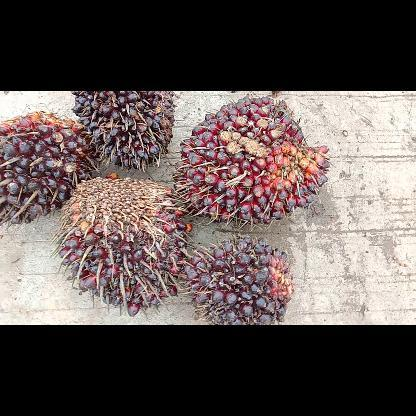TBS mentah: (170, 96, 328, 226), (51, 178, 192, 316), (0, 110, 96, 224), (176, 236, 292, 324), (70, 91, 174, 171)
